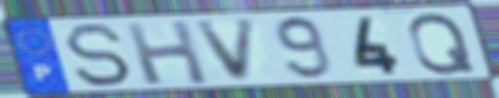4: (351, 14, 403, 77)
9: (275, 14, 337, 82)
H: (122, 18, 213, 87)
Q: (405, 11, 479, 76)
S: (60, 22, 136, 89)
V: (192, 16, 260, 85)
